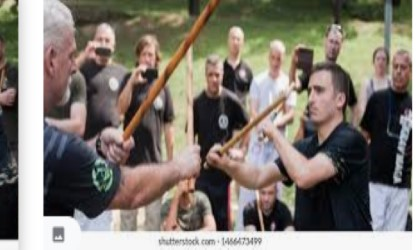baston_e: (119, 10, 212, 127), (224, 103, 275, 151), (182, 59, 196, 140)
baston_v: (184, 174, 198, 190), (278, 88, 290, 102), (289, 78, 297, 88)
